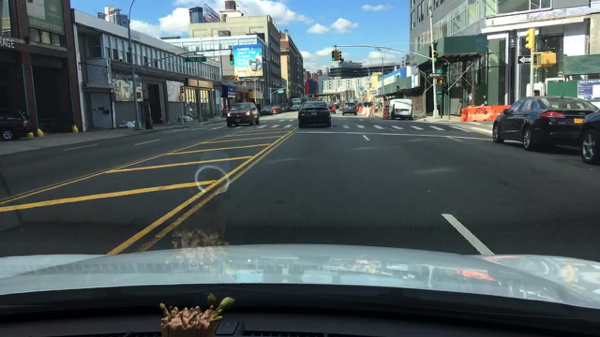car: (492, 96, 598, 163), (579, 105, 598, 165), (0, 108, 32, 142), (297, 101, 331, 129), (226, 103, 261, 127), (388, 98, 413, 119), (341, 102, 357, 117), (289, 98, 301, 111), (261, 106, 272, 116), (282, 103, 289, 112), (363, 103, 370, 109), (339, 104, 344, 111), (334, 104, 339, 110), (375, 101, 380, 107), (357, 103, 362, 108), (370, 102, 375, 107), (335, 104, 339, 110), (327, 104, 333, 108)
traffic light: (543, 52, 557, 66), (533, 52, 545, 66), (524, 30, 529, 49), (184, 58, 206, 62), (435, 78, 445, 86), (134, 92, 142, 100), (229, 54, 234, 65), (338, 50, 342, 63), (331, 51, 335, 61), (433, 52, 437, 62), (434, 68, 441, 73), (181, 85, 184, 95)
traffic sign: (517, 57, 537, 64), (429, 73, 440, 78), (122, 77, 130, 81), (277, 90, 284, 93)
